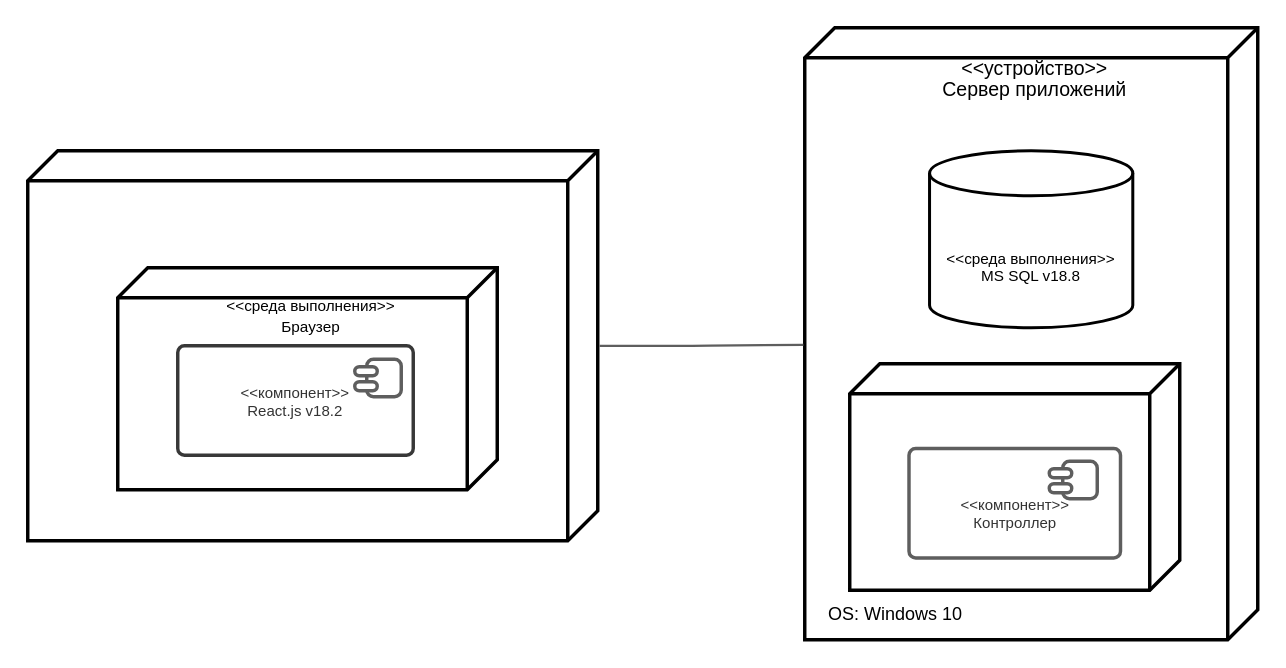
Image size: 1286x668. Some labels were removed from this diagram. Each missing label, with the box of its shape:
<<среда выполнения>> Node.js V18.0: (847, 361, 1181, 591)
<<устройство>> ПК/ноутбук: (25, 148, 599, 542)
протокол HTTPS: (558, 333, 831, 408)
